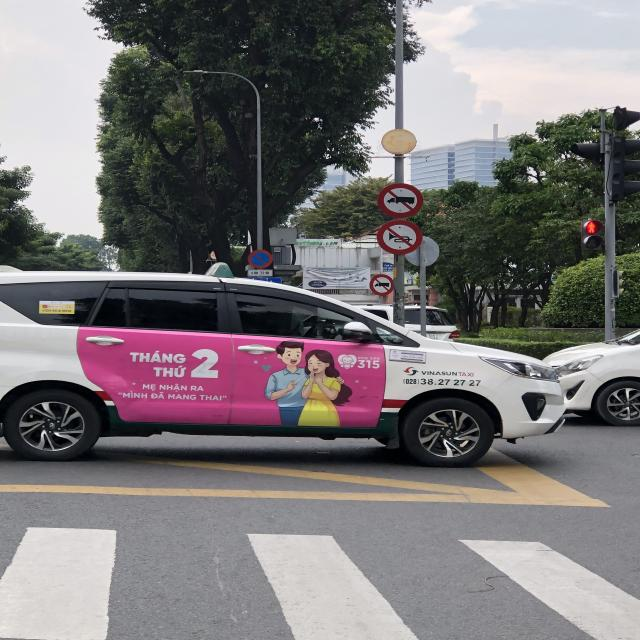Bien bao cam do xe: (245, 248, 277, 270)
Bien bao cam xe so-mi ro-mooc: (375, 180, 425, 220), (368, 272, 397, 297)
